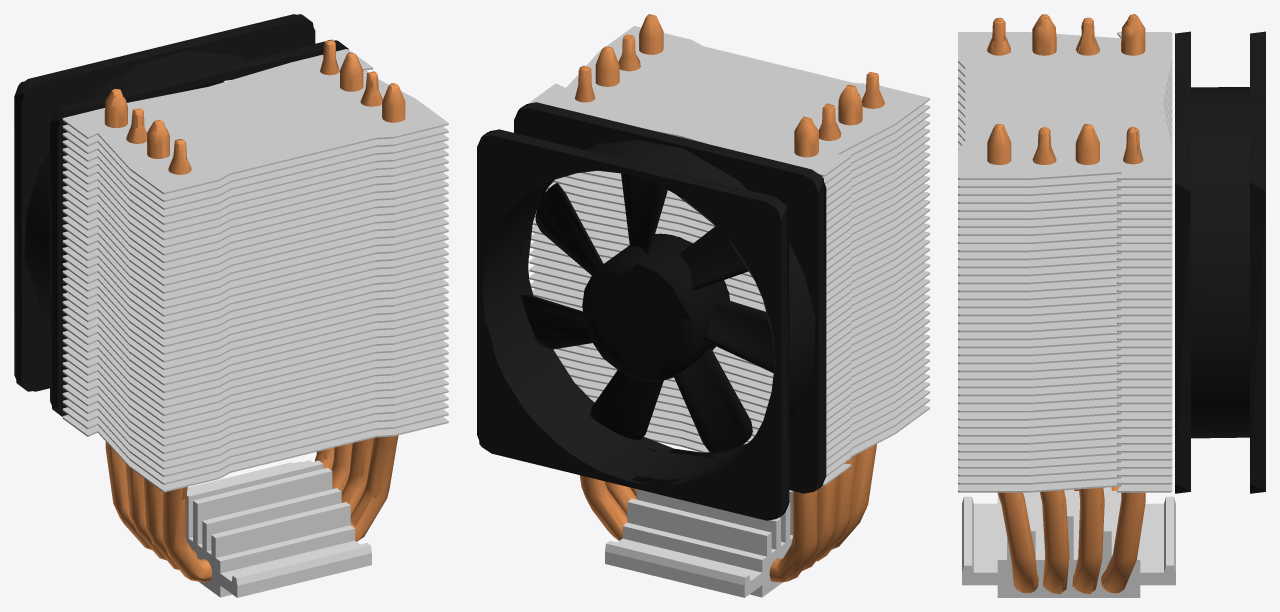
File: COOLER_1.fbx
3 views of the same model, side by side, from view 1: azimuth 30°, elevation 25°; view 2: azimuth 150°, elevation 25°; view 3: azimuth 270°, elevation 25° (orthographic). The views are drawn at different scales.
Visible parts, largest first — view 1: Object_6; view 2: Object_6; view 3: Object_6.
Boxes of the visible parts, box(x1,y1,x2,y2) form: Object_6: box(14, 14, 448, 597); Object_6: box(477, 14, 929, 597); Object_6: box(958, 14, 1265, 597).
Bounding box in the file's own units: 15.5 × 23.73 × 13.41.
